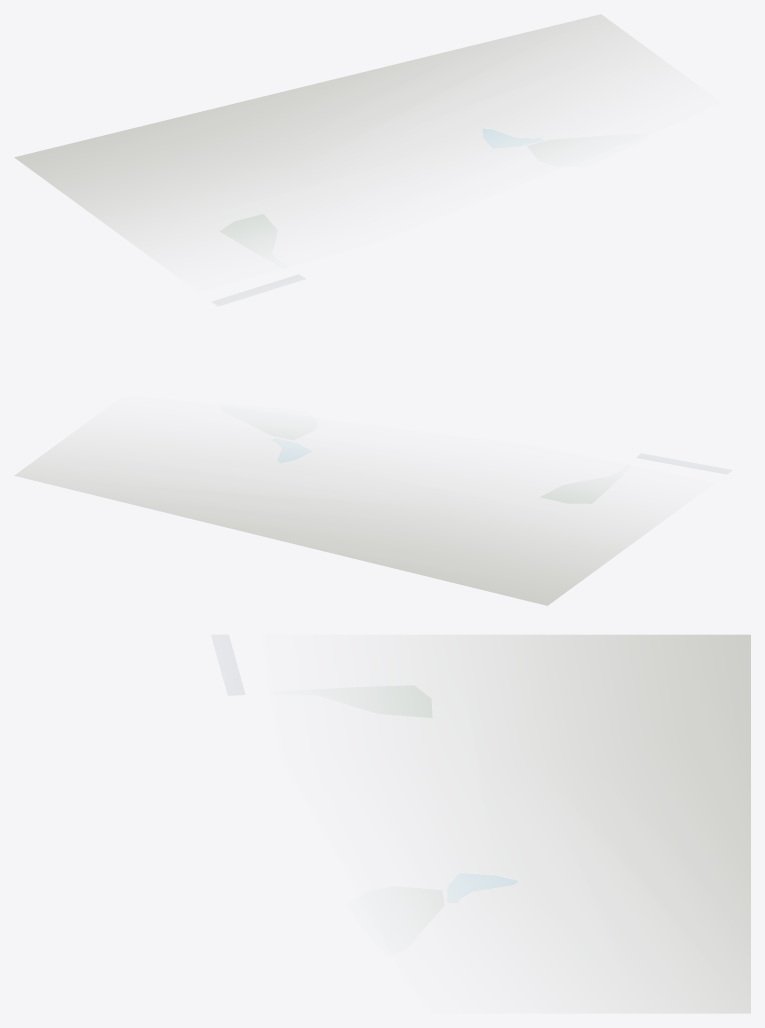
3 views of the same model, one above another, from view 1: azimuth 30°, elevation 25°; view 2: azimuth 150°, elevation 25°; view 3: azimuth 270°, elevation 25° (orthographic). The views are drawn at different scales.
Visible parts, largest first — view 1: city; view 2: city; view 3: city.
Boxes of the visible parts, x1,y1,x2,y2 form: city: (14,14,678,282); city: (14,424,678,605); city: (238,634,750,1013).
Size of the model in its own units: 500 by 0.4 by 411.
